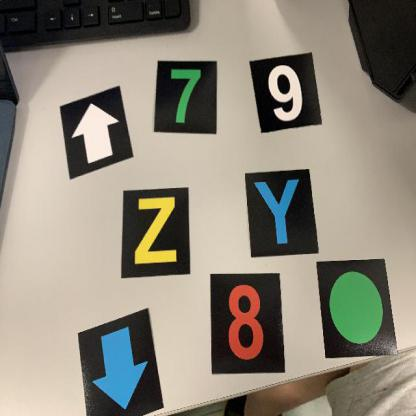7: (153, 58, 218, 137)
8: (211, 272, 287, 375)
9: (251, 53, 324, 135)
down: (77, 307, 167, 415)
go: (316, 258, 398, 360)
up: (59, 84, 135, 183)
y: (245, 169, 320, 259)
z: (121, 186, 193, 279)
